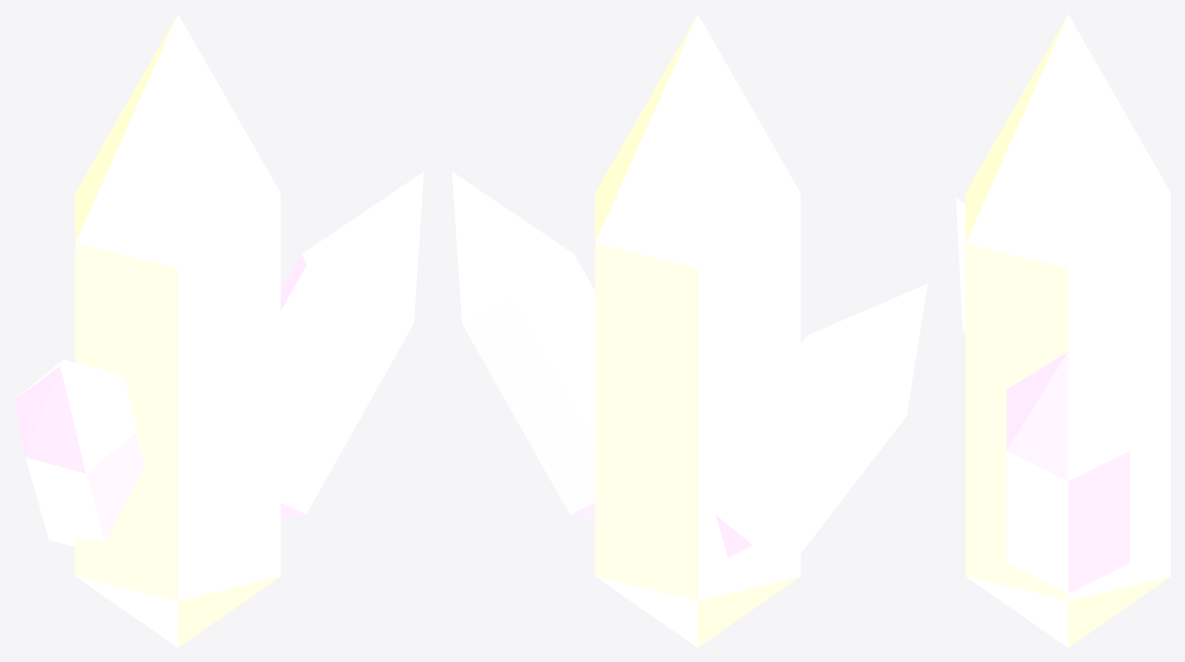
File: fragment.glb
The picture shows the model from 3 angles, left to right: view 1: azimuth 30°, elevation 25°; view 2: azimuth 150°, elevation 25°; view 3: azimuth 270°, elevation 25°; orthographic projection.
Parts seen in each view (by area): view 1: fragment; view 2: fragment; view 3: fragment.
Boxes of the visible parts, box(x1,y1,x2,y2) form: fragment: box(14, 14, 423, 647); fragment: box(452, 14, 927, 647); fragment: box(956, 14, 1170, 647).
Bounding box in the file's own units: 0.4155 × 0.59 × 0.1813.
